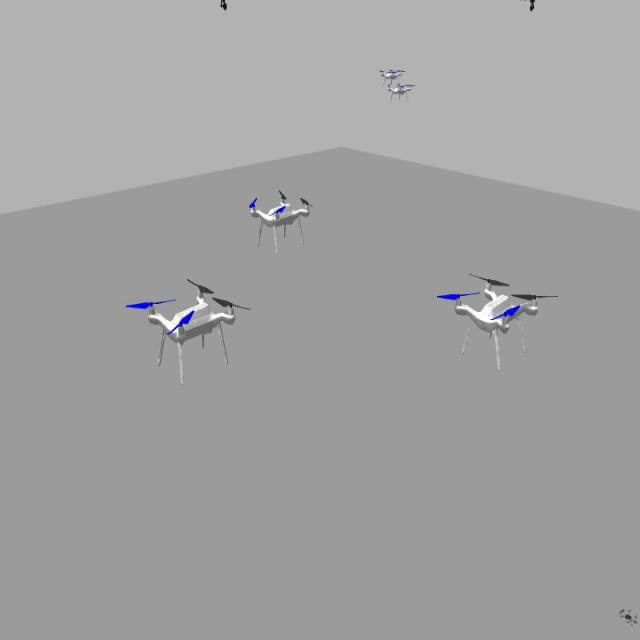Drone: (123, 277, 255, 383)
